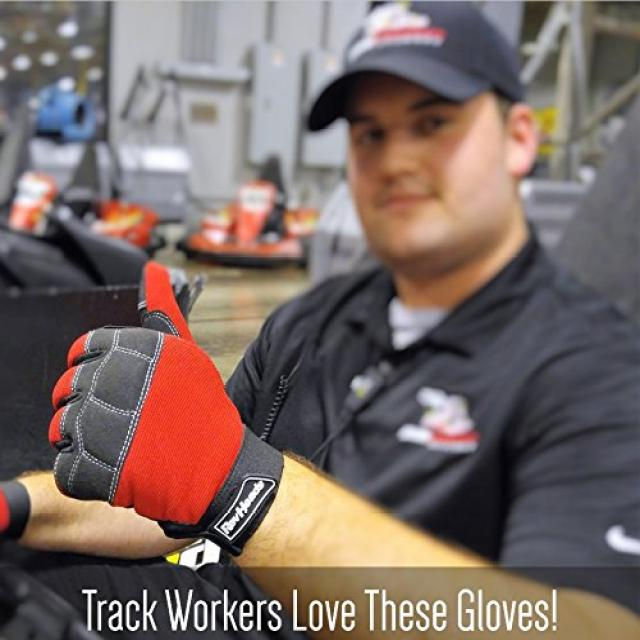gloves: (46, 261, 287, 557)
